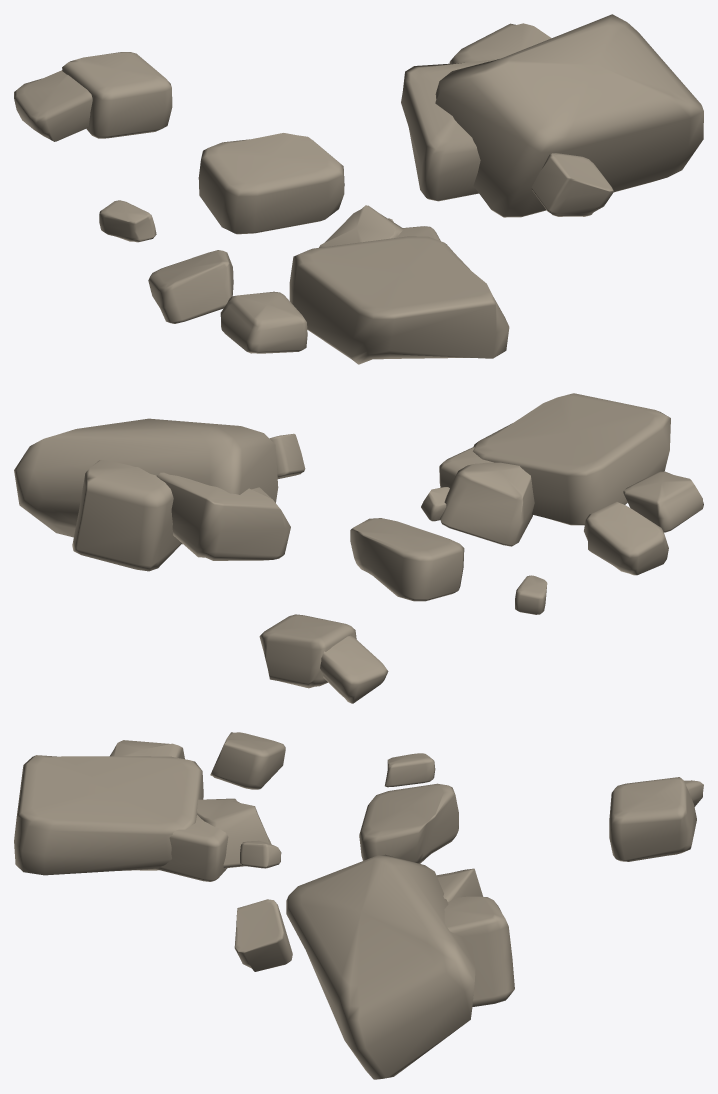
The model's file is landscape.rock.scree_a.glb.
3 views of the same model, one above another, from view 1: azimuth 30°, elevation 25°; view 2: azimuth 150°, elevation 25°; view 3: azimuth 270°, elevation 25° (orthographic). The views are drawn at different scales.
Visible parts, largest first — view 1: main__stone_a98; view 2: main__stone_a98; view 3: main__stone_a98.
Boxes of the visible parts, x1,y1,x2,y2 form: main__stone_a98: (14, 14, 703, 364); main__stone_a98: (14, 393, 703, 703); main__stone_a98: (14, 732, 703, 1079).
Bounding box in the file's own units: 1.54 × 0.3723 × 1.59.
